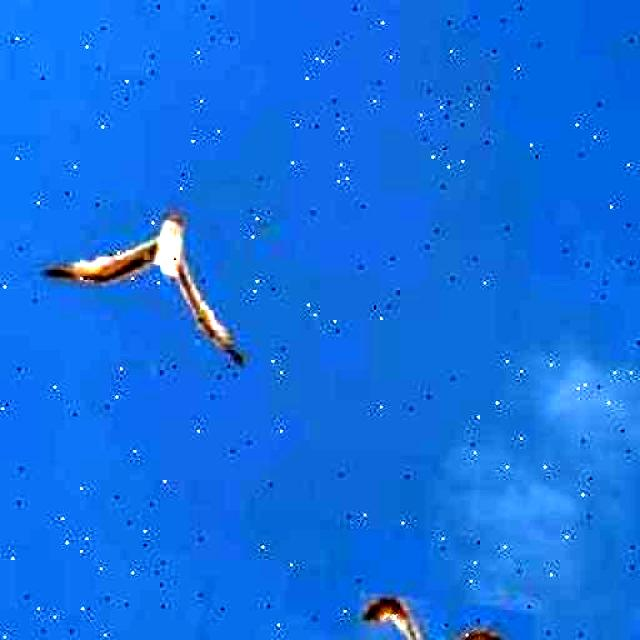airplane: (30, 191, 262, 372), (349, 592, 535, 640)
